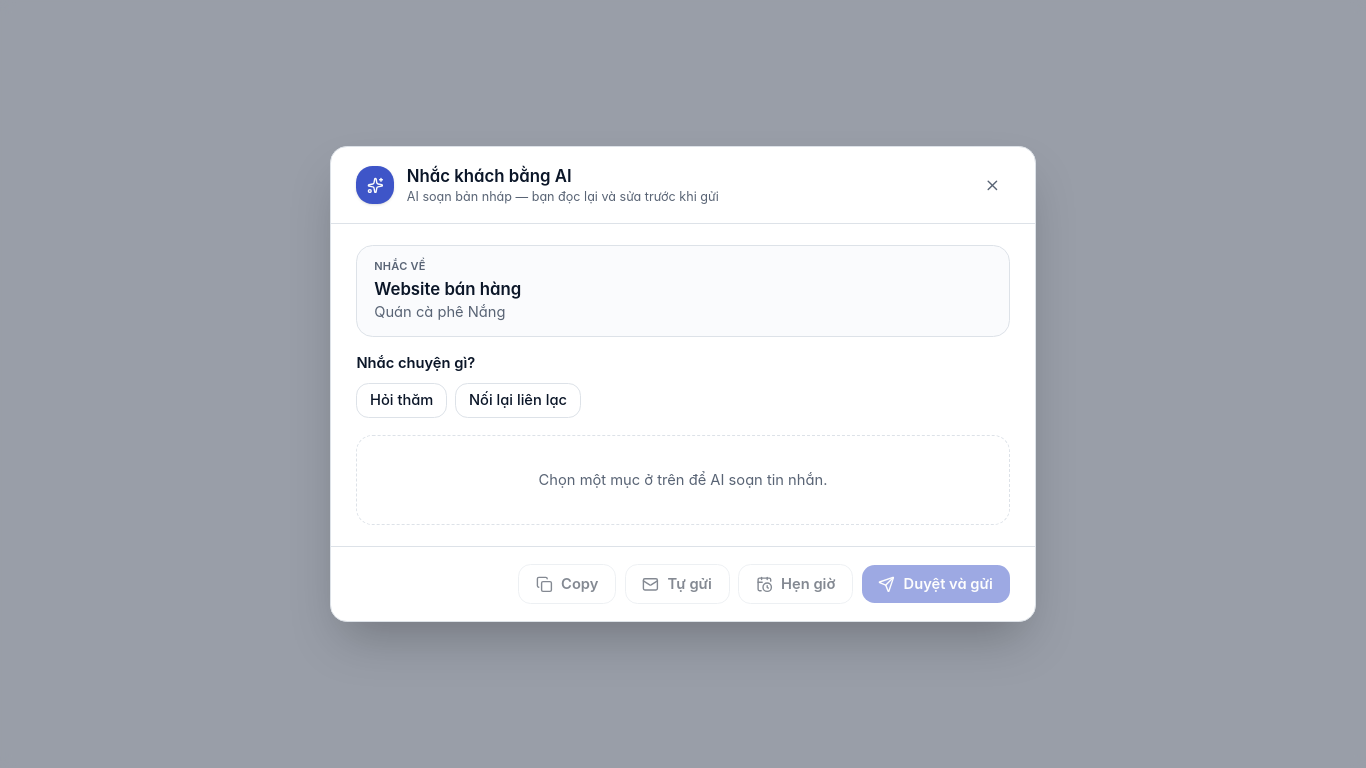
Test: <FollowUpModal /> › nói rõ tiêu đề khách thật sự nhận, và ô sửa tiêu đề chỉ dành cho Gmail
Click the button "Hỏi thăm": (402, 401) [356,383,447,418]
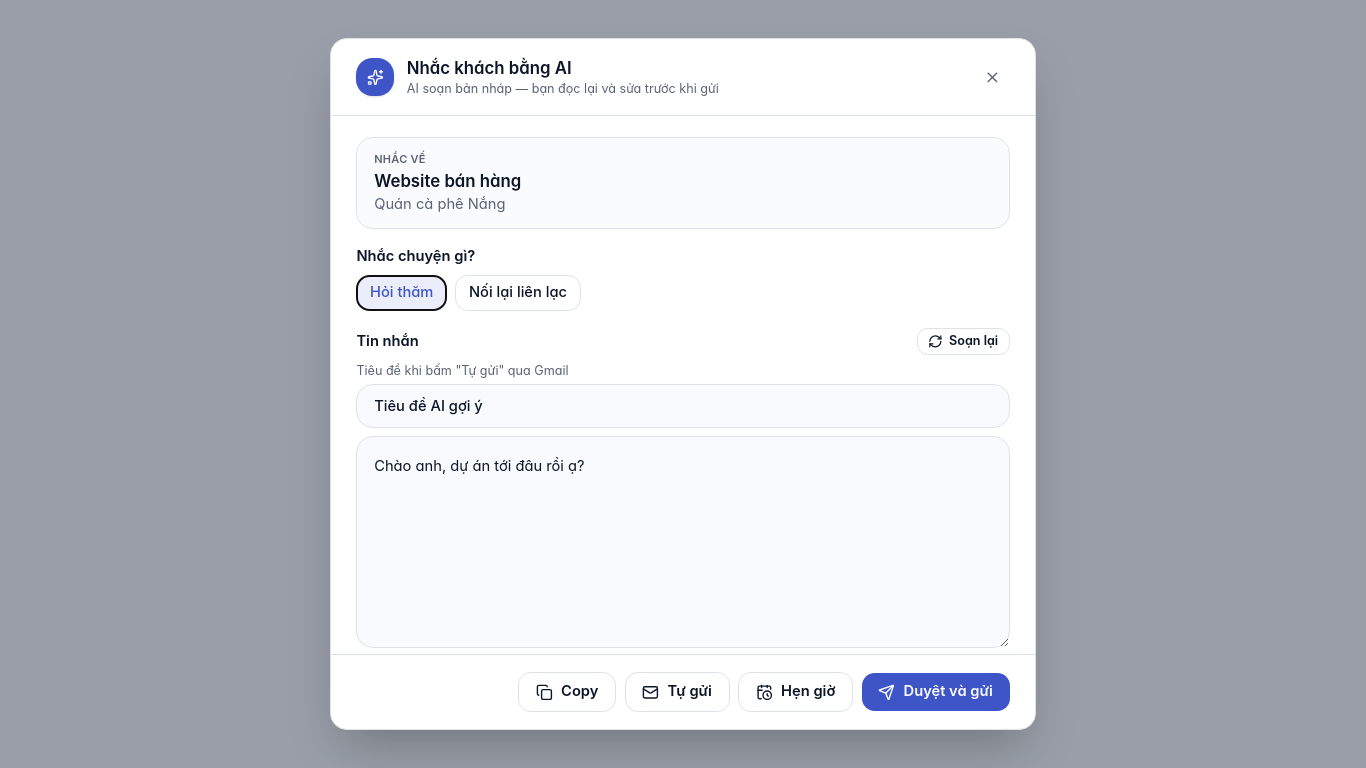
Expected: the text "Tiêu đề khi bấm \"Tự gửi\" qua Gmail" is shown, [356,363,568,378]
